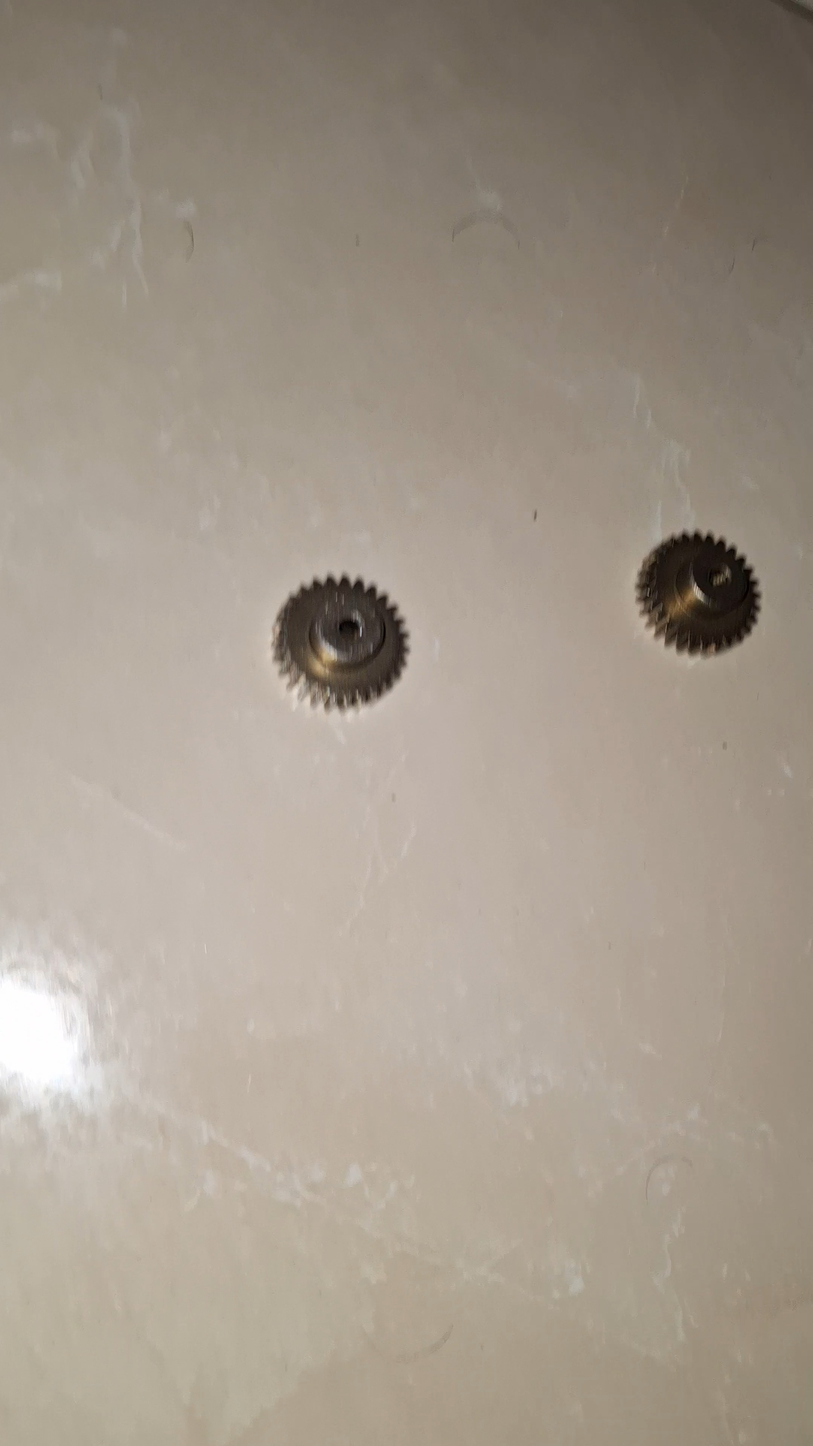spur gear: (274, 577, 407, 708), (637, 533, 760, 653)
